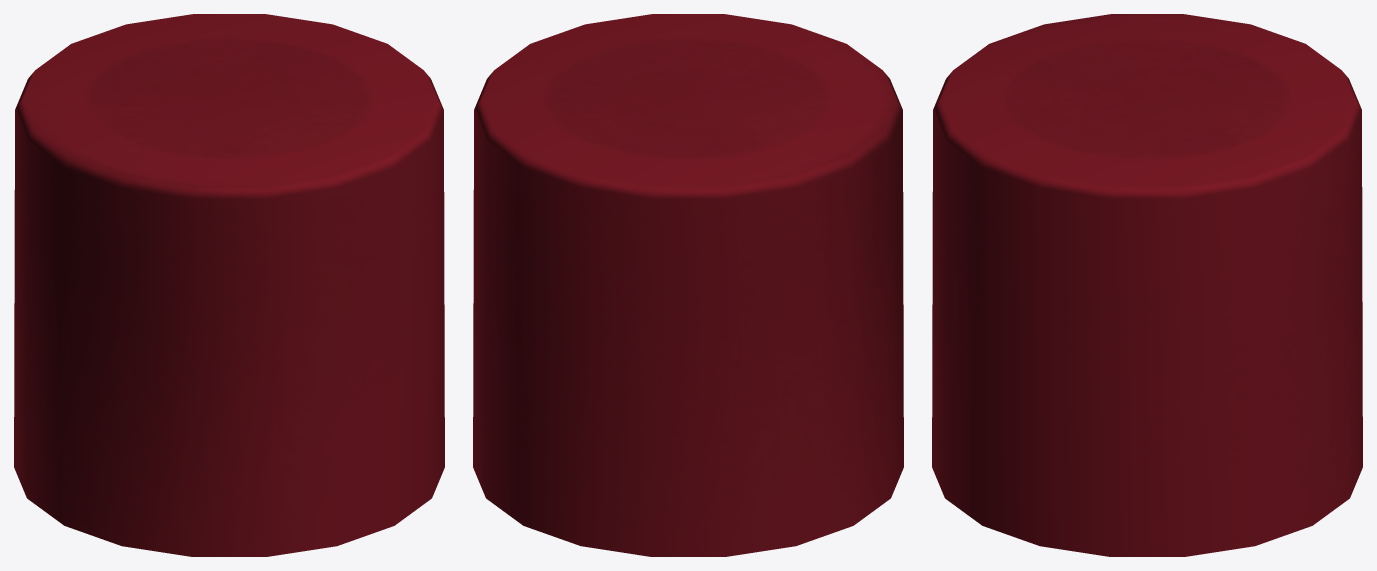
The model's file is Dial 2.fbx.
3 views of the same model, side by side, from view 1: azimuth 30°, elevation 25°; view 2: azimuth 150°, elevation 25°; view 3: azimuth 270°, elevation 25° (orthographic).
Visible parts, largest first — view 1: Dial_2; view 2: Dial_2; view 3: Dial_2.
Boxes of the visible parts, bbox=[...] form: Dial_2: bbox=[14, 14, 444, 556]; Dial_2: bbox=[473, 14, 903, 556]; Dial_2: bbox=[932, 14, 1362, 556].
Size of the model in its own units: 2.87 by 2.76 by 2.91.
